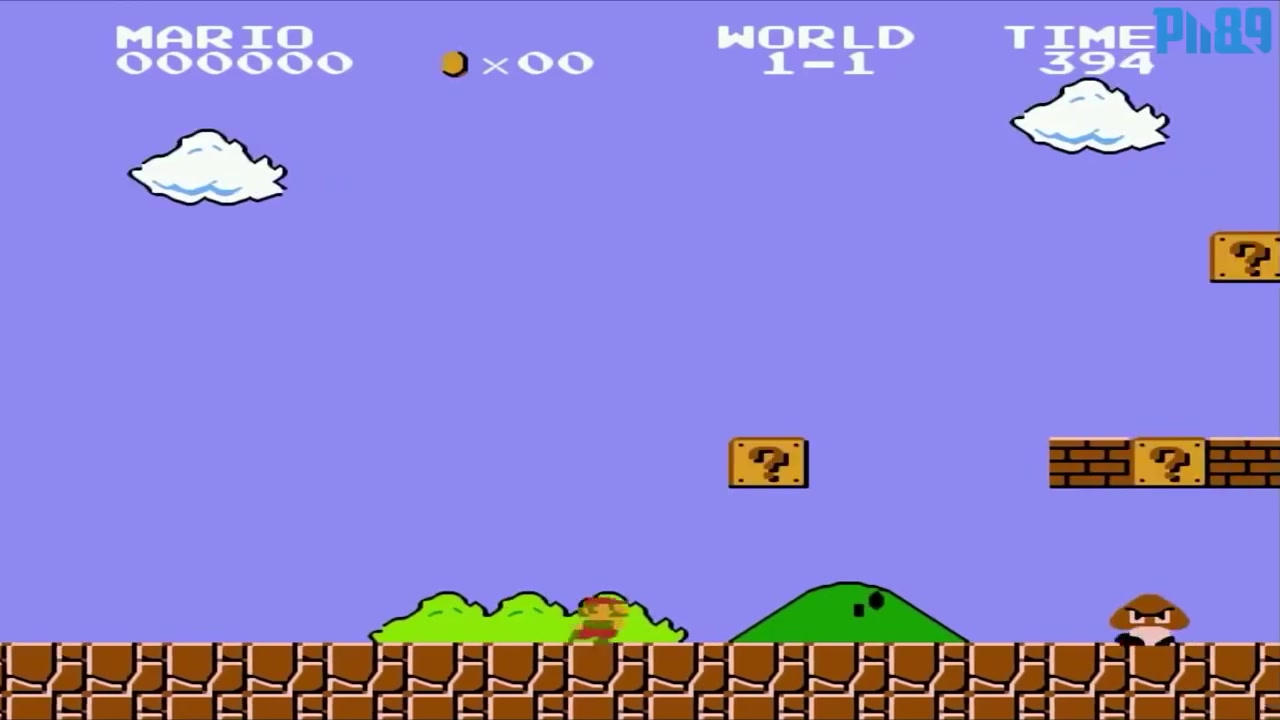mario: (564, 587, 633, 649)
